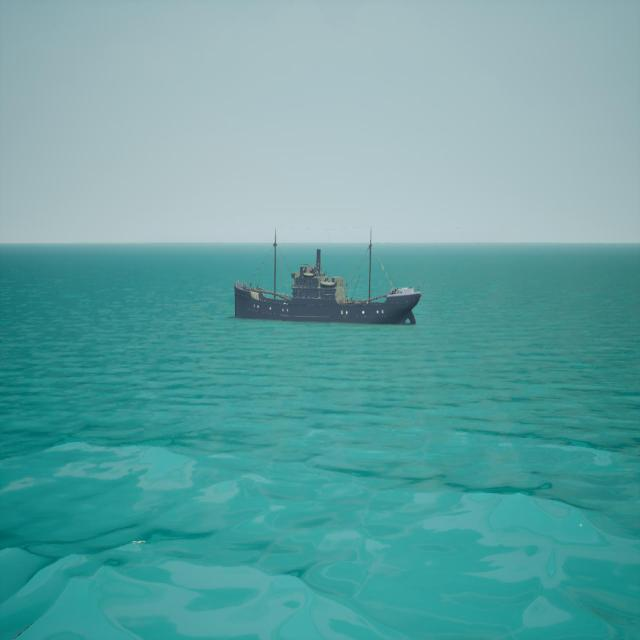fishing ship: (236, 230, 423, 327)
